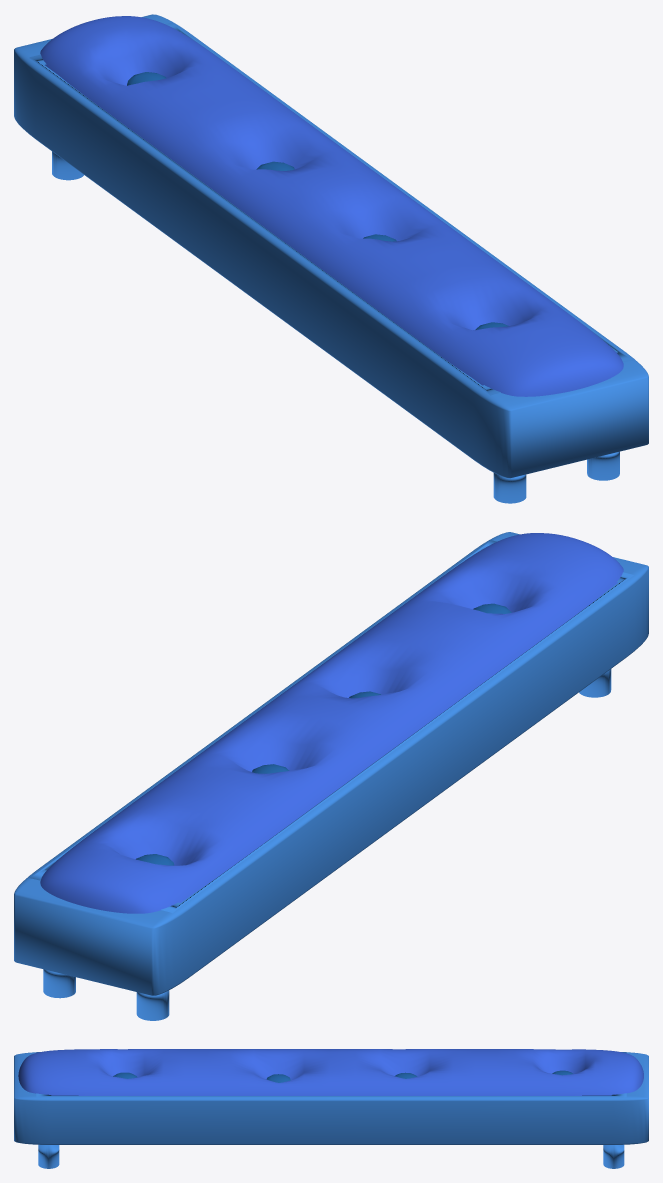
The model's file is lavochka.fbx.
The picture shows the model from 3 angles, top to bottom: view 1: azimuth 30°, elevation 25°; view 2: azimuth 150°, elevation 25°; view 3: azimuth 270°, elevation 25°; orthographic projection. The views are drawn at different scales.
Visible parts, largest first — view 1: Cube; view 2: Cube; view 3: Cube.
Boxes of the visible parts, <box> form: Cube: <box>14,14,648,503</box>; Cube: <box>14,532,648,1020</box>; Cube: <box>14,1049,648,1168</box>.
Size of the model in its own units: 240 by 209 by 1338.
